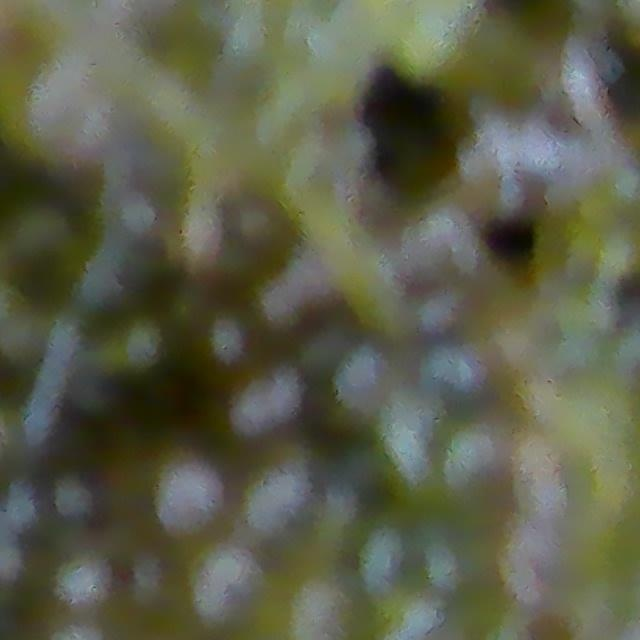SeaGrape: (140, 453, 244, 548), (217, 368, 310, 456), (181, 542, 262, 627), (152, 454, 226, 536)
